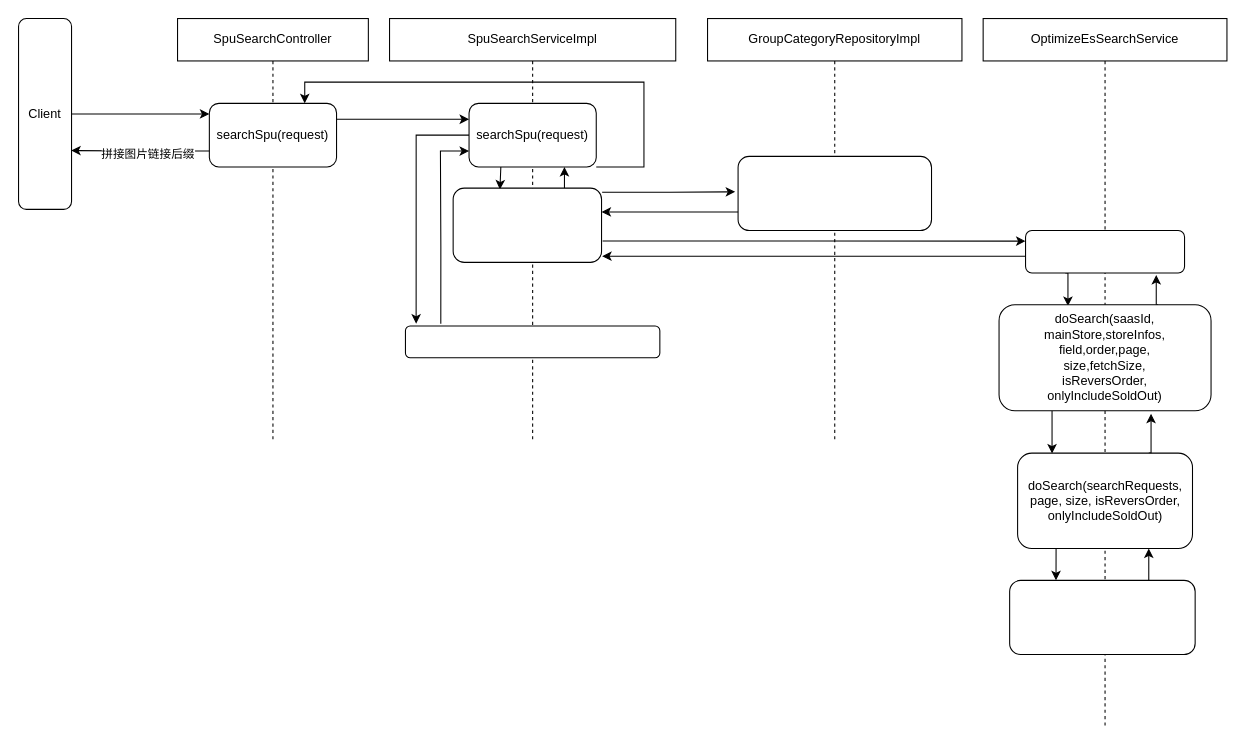
Some shapes in this 1245 by 747 pixel diagram are drawn without their labels. Each missing label, with the centre of its shape:
"build(saasId, spuStoreMap, response)" belongs at (x=532, y=341).
"doPage(hits, page, size, isReversOrder, onlyIncludeSoldOut)" belongs at (x=1102, y=617).
"doSearchSpu(request)" belongs at (x=527, y=224).
"getCategoryIdByGroupIds( saasId, frontCategoryIds, deliverType)" belongs at (x=834, y=193).
"search(request, list)" belongs at (x=1104, y=251).
